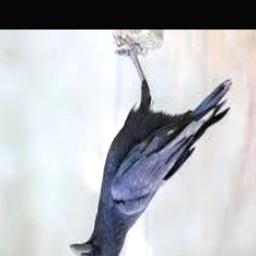Crow: (70, 35, 233, 256)
